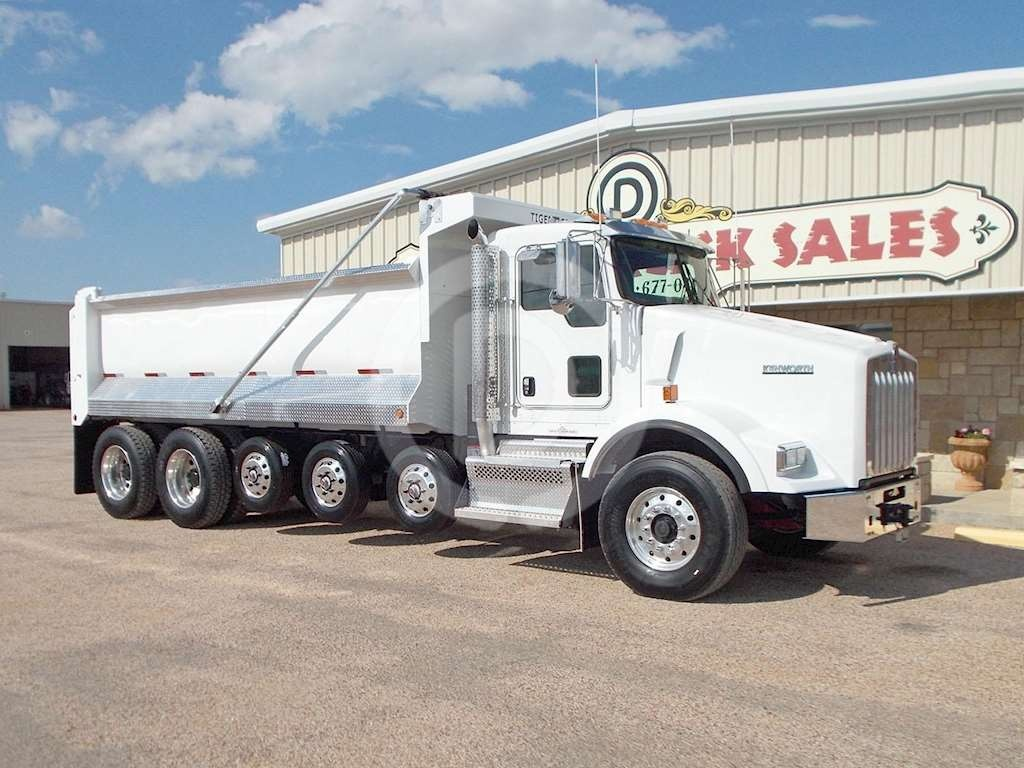truck: (39, 202, 932, 606)
